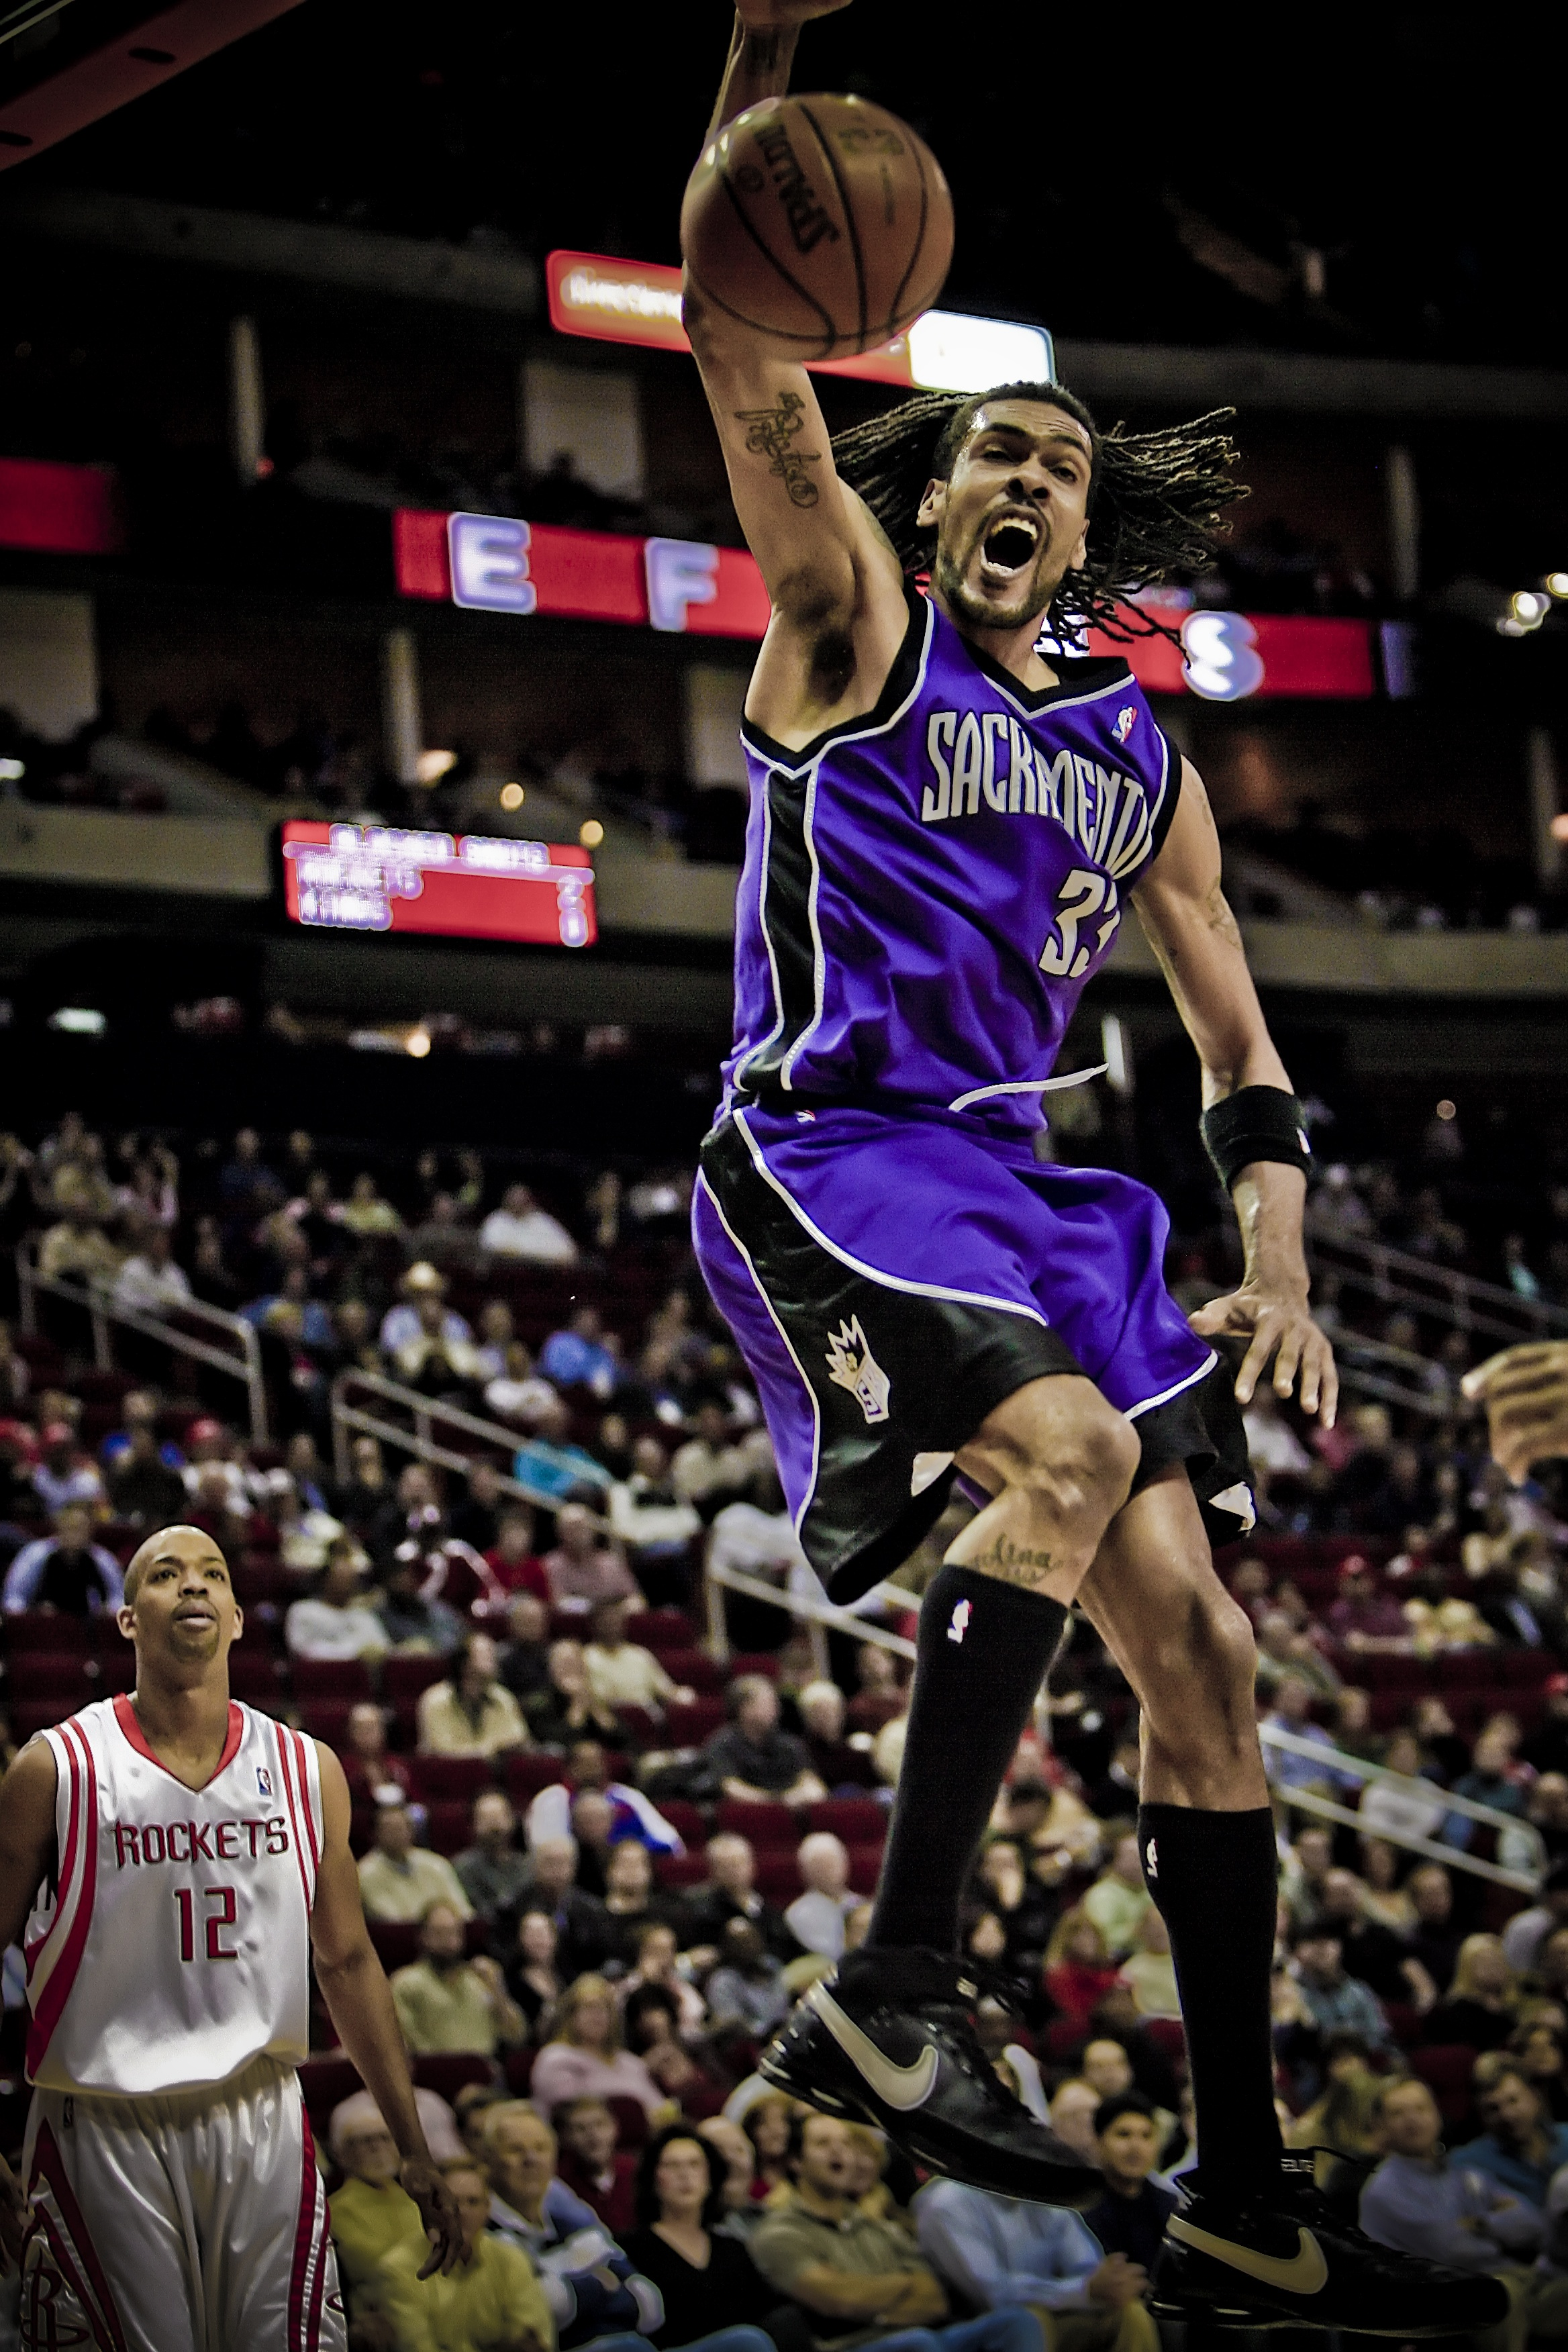ball: (663, 72, 976, 357)
dunk: (633, 5, 1395, 2333)
stand: (7, 1507, 516, 2352)
